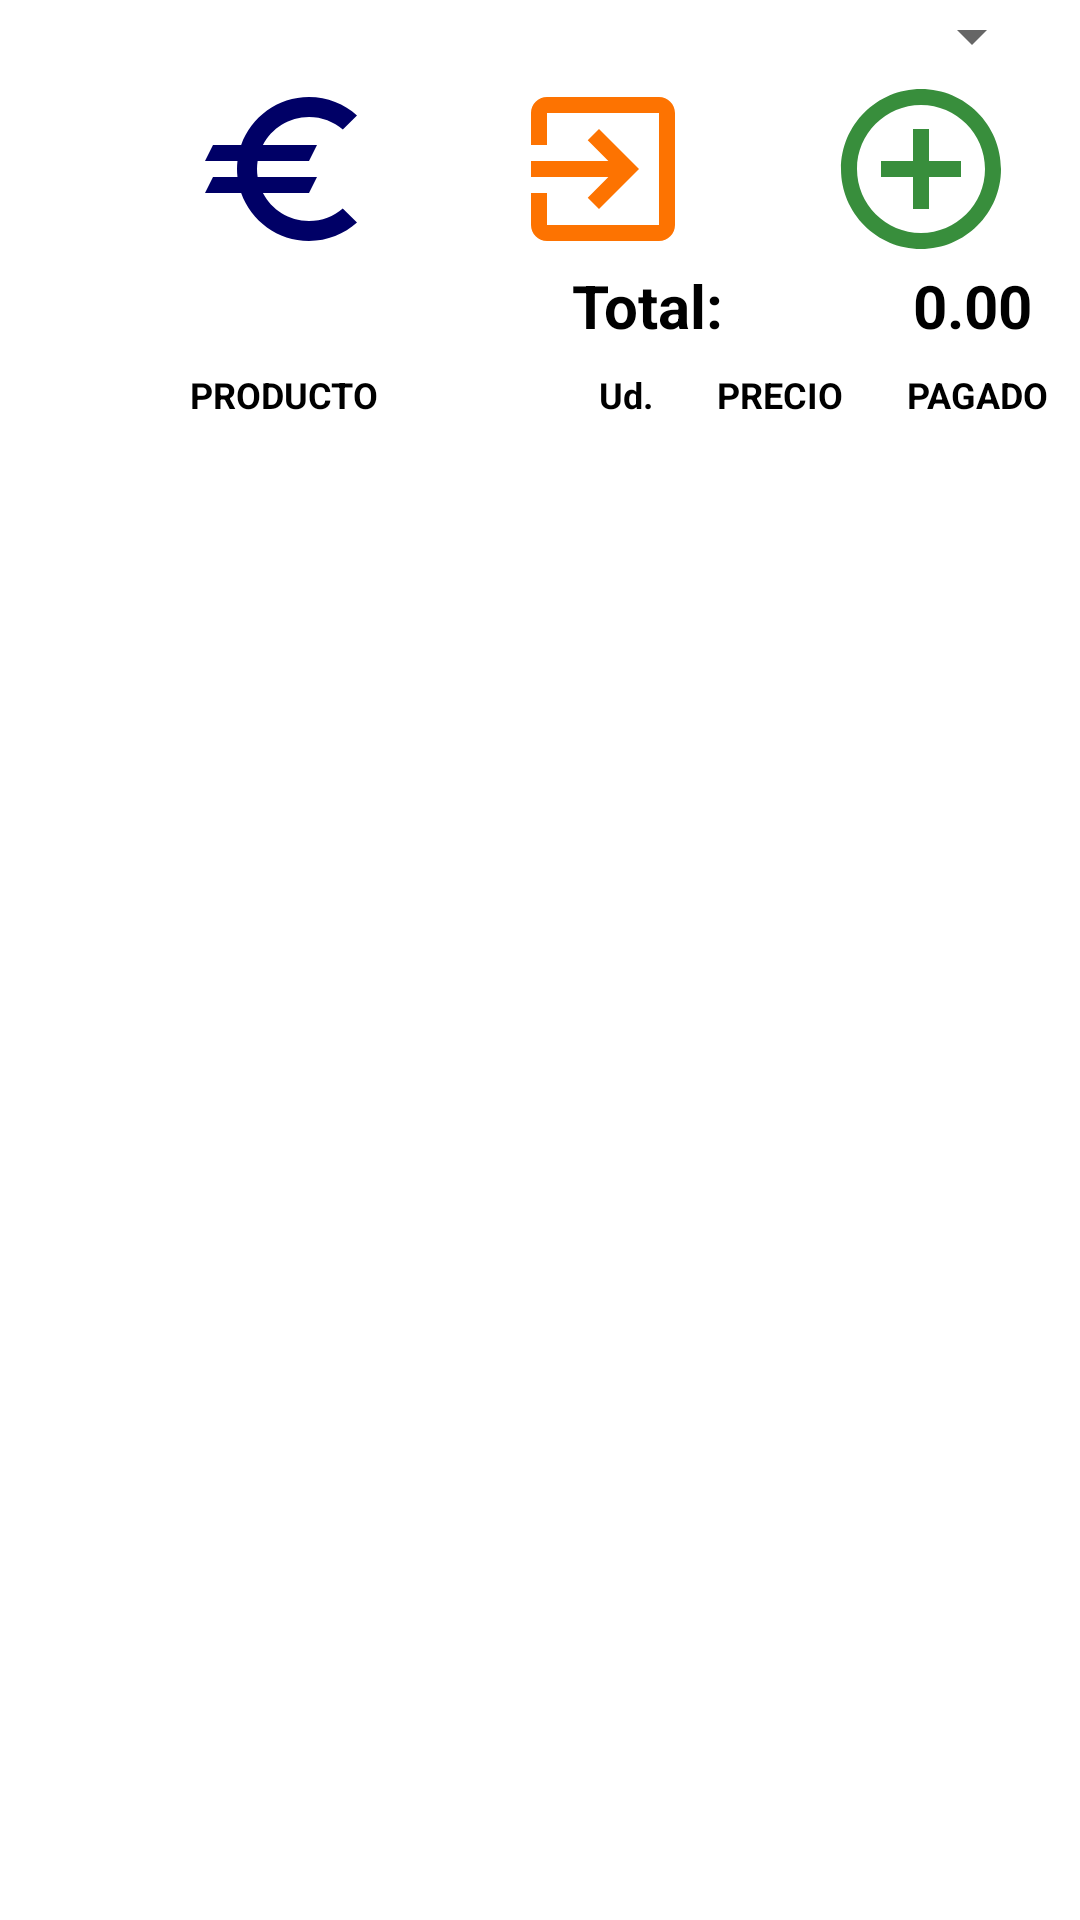

Named icons in this screenshot (1080×1920) and their bounding boxes, (x1, y1, x2, y2):
add circle: (841, 89, 1001, 249)
euro: (205, 97, 357, 241)
exit to app: (531, 97, 675, 241)
